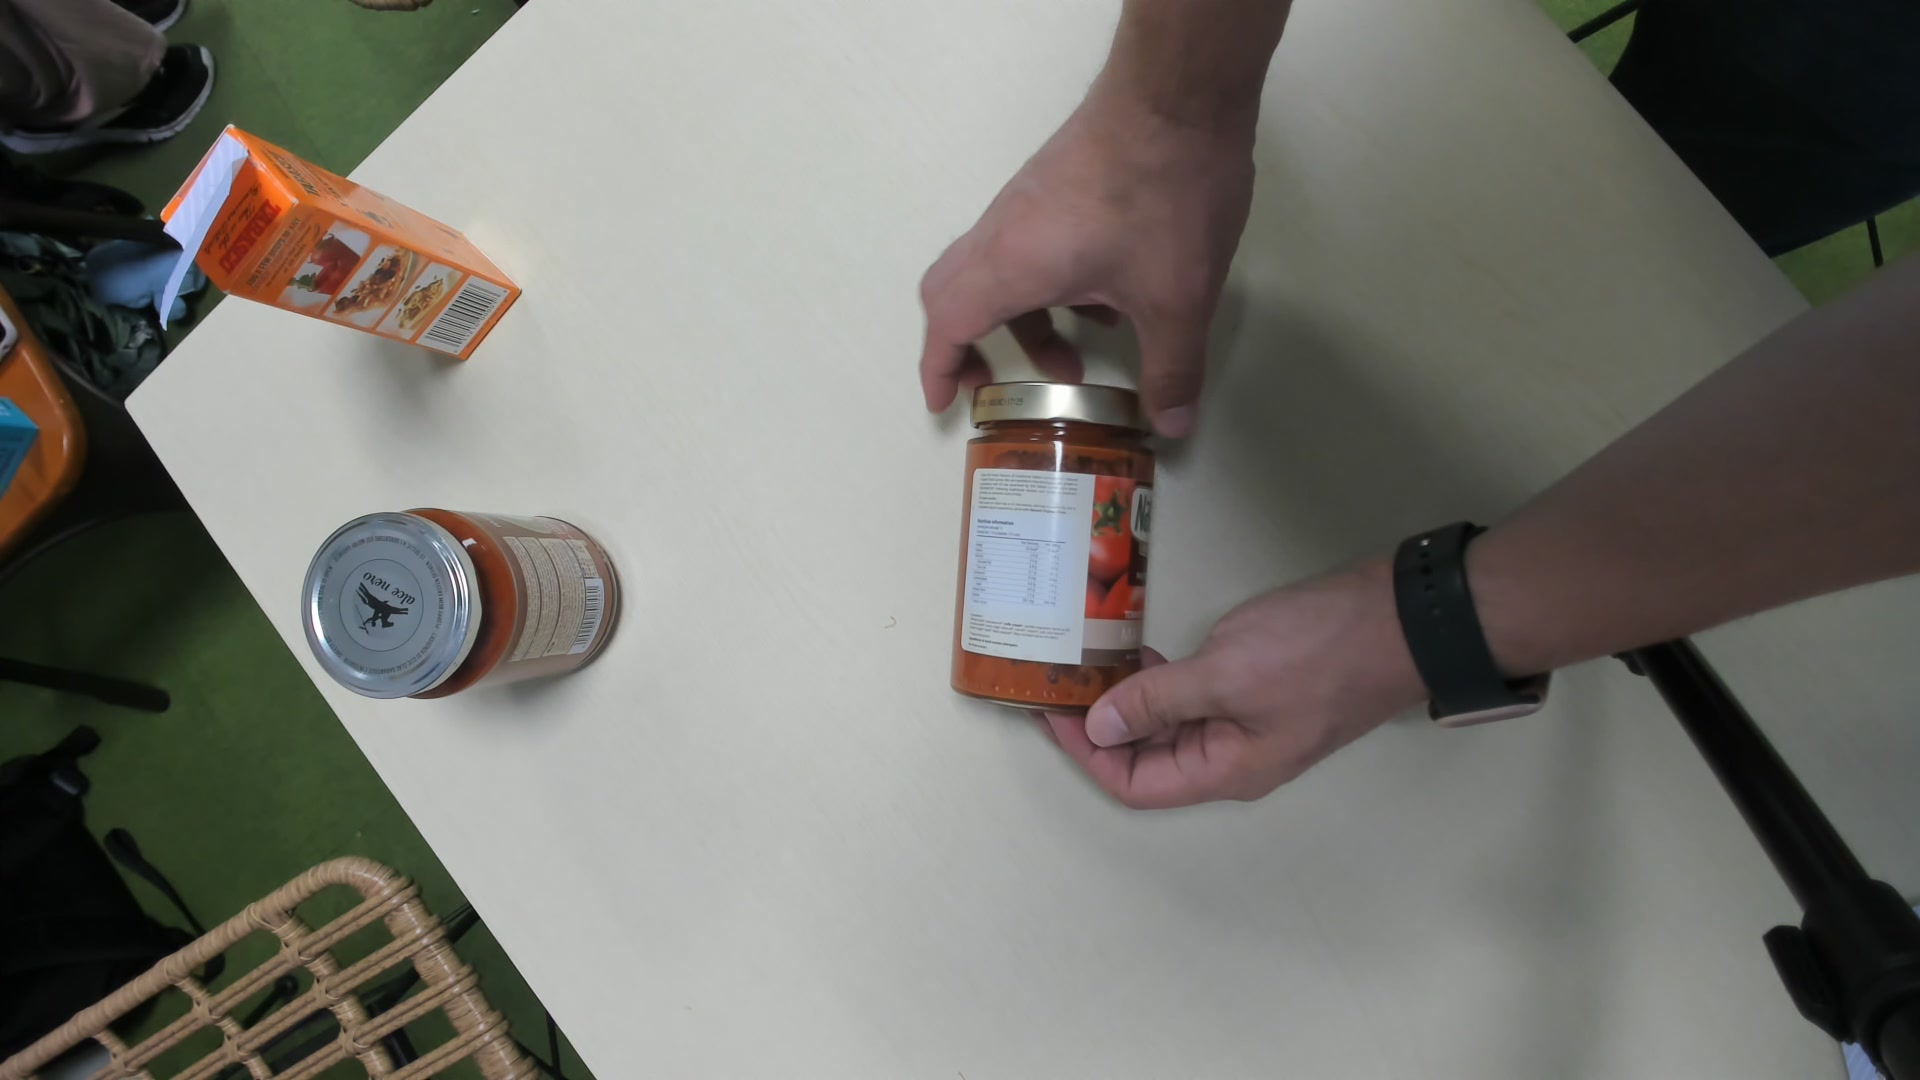PastaSauce_300-399g_NonHalal_NonHealthy: (952, 381, 1155, 713)
